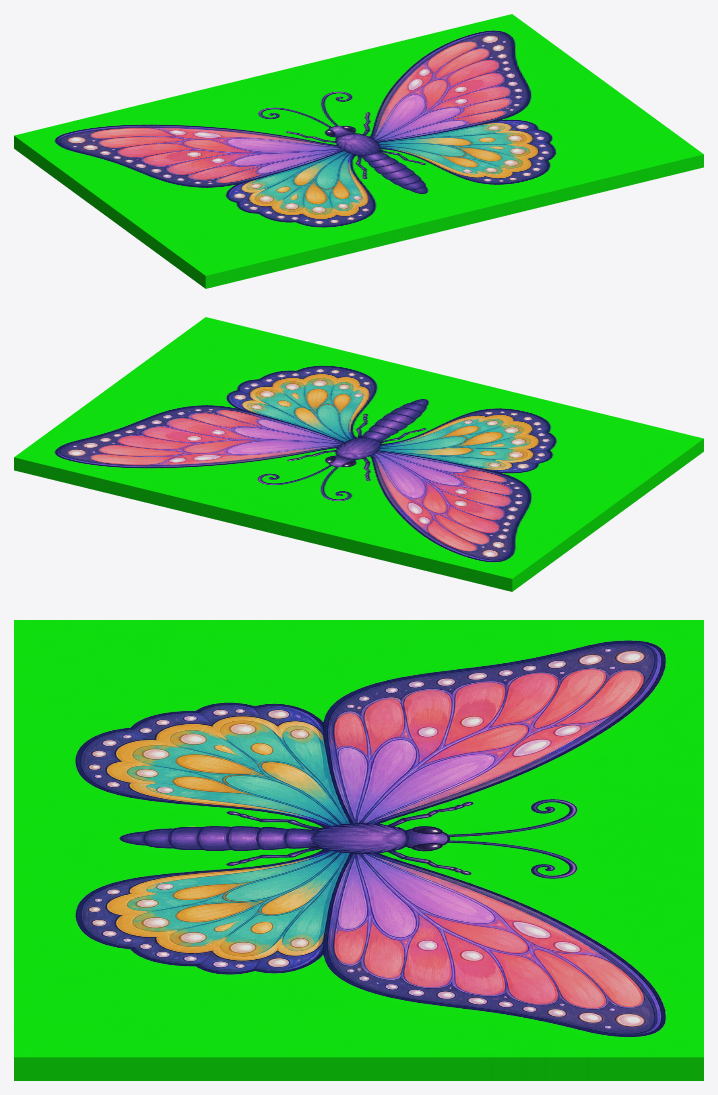
Rendered from butterfly.glb.
3 views of the same model, one above another, from view 1: azimuth 30°, elevation 25°; view 2: azimuth 150°, elevation 25°; view 3: azimuth 270°, elevation 25° (orthographic). The views are drawn at different scales.
Parts seen in each view (by area): view 1: butterfly; view 2: butterfly; view 3: butterfly.
Boxes of the visible parts, x1,y1,x2,y2 form: butterfly: (14,14,703,288); butterfly: (14,317,703,591); butterfly: (14,620,703,1080).
Size of the model in its own units: 2 by 0.05 by 1.33.
1 material, 1 textured.
